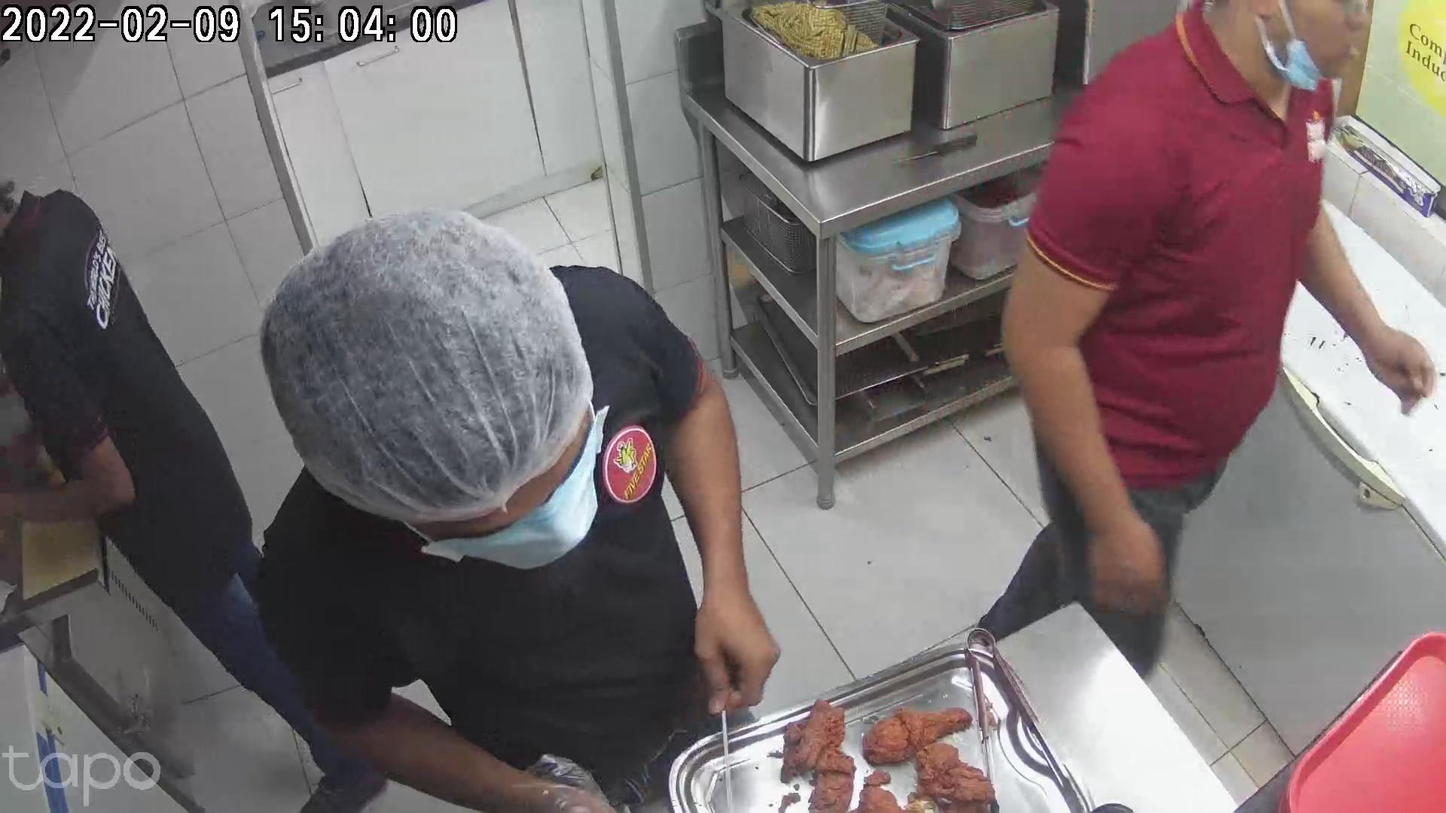no_gloves: (689, 556, 770, 714)
